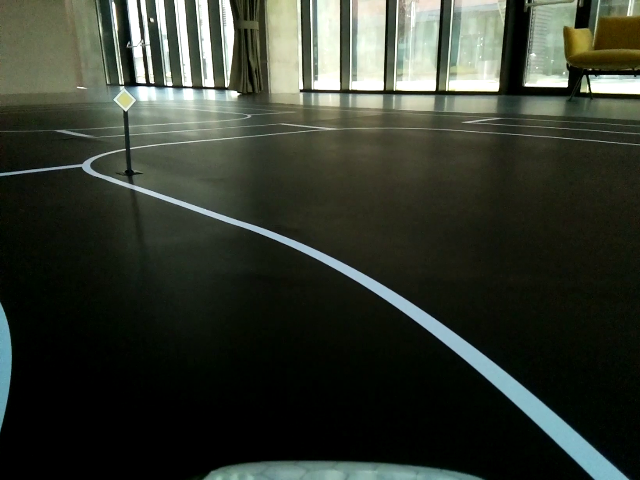priority: (110, 89, 138, 111)
